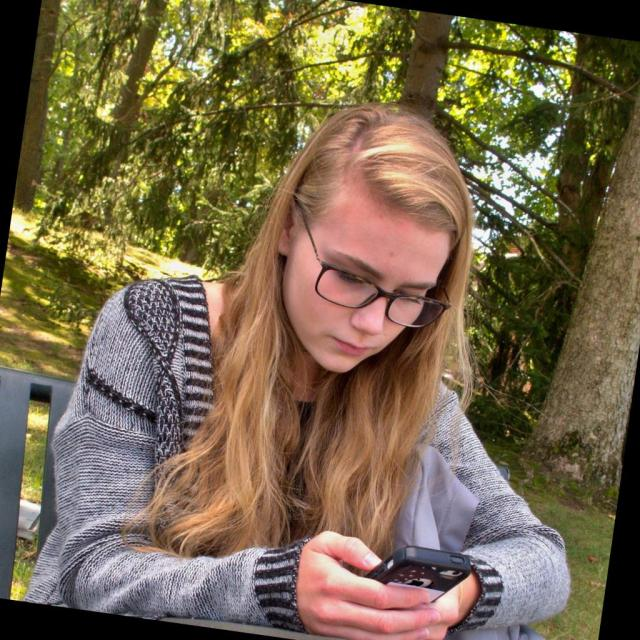phone: (358, 546, 477, 609)
